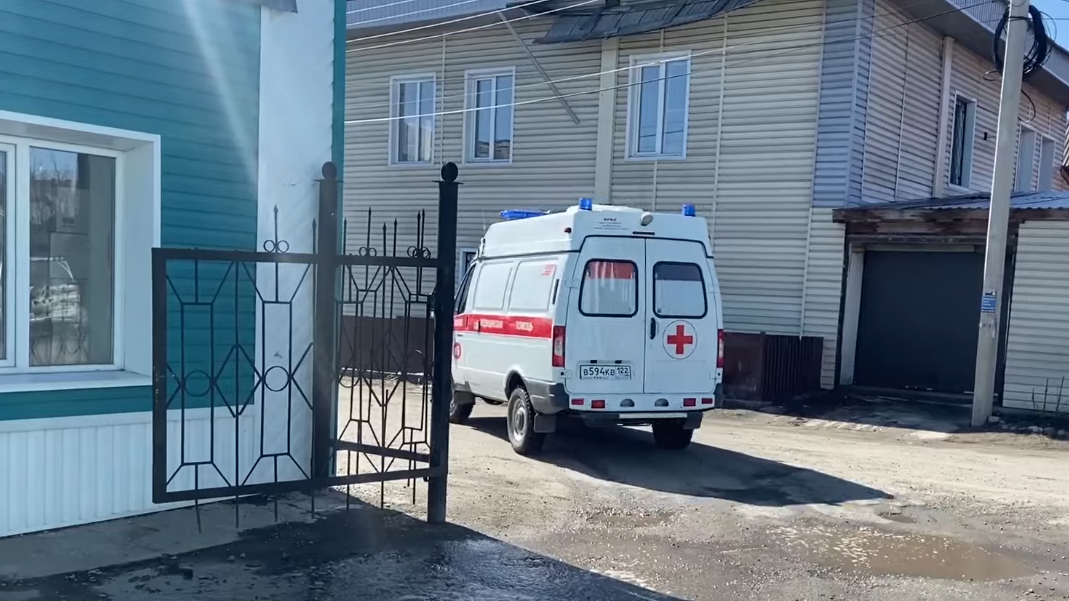ambulance: (446, 203, 720, 452)
